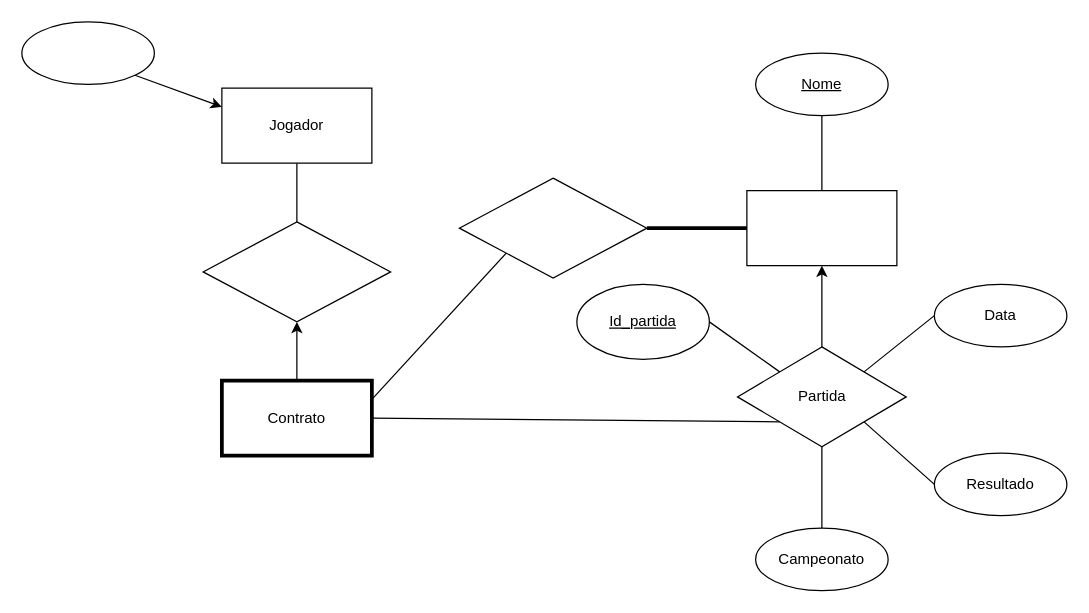
Image size: 1089x613. Some labels were removed from this diagram. Here are the shapes that lost their labels. From the top down, the centre of each, then its label:
At [87,52]: "um monte de atributo".
At [552,227]: "Cont_time".
At [821,227]: "Time".
At [296,271]: "Cont_jogador".
